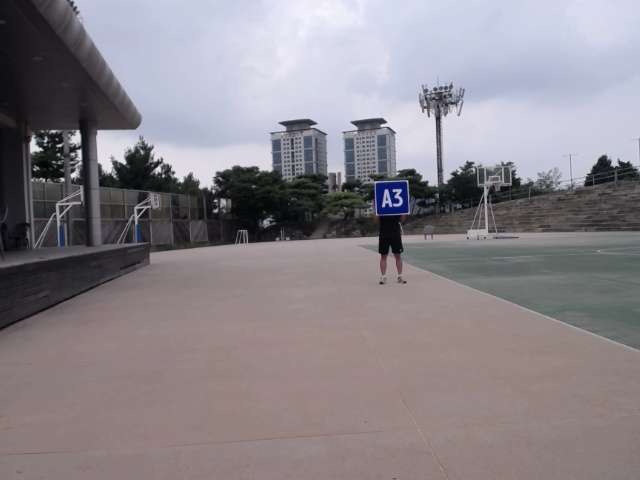delivery_a3: (375, 181, 410, 215)
